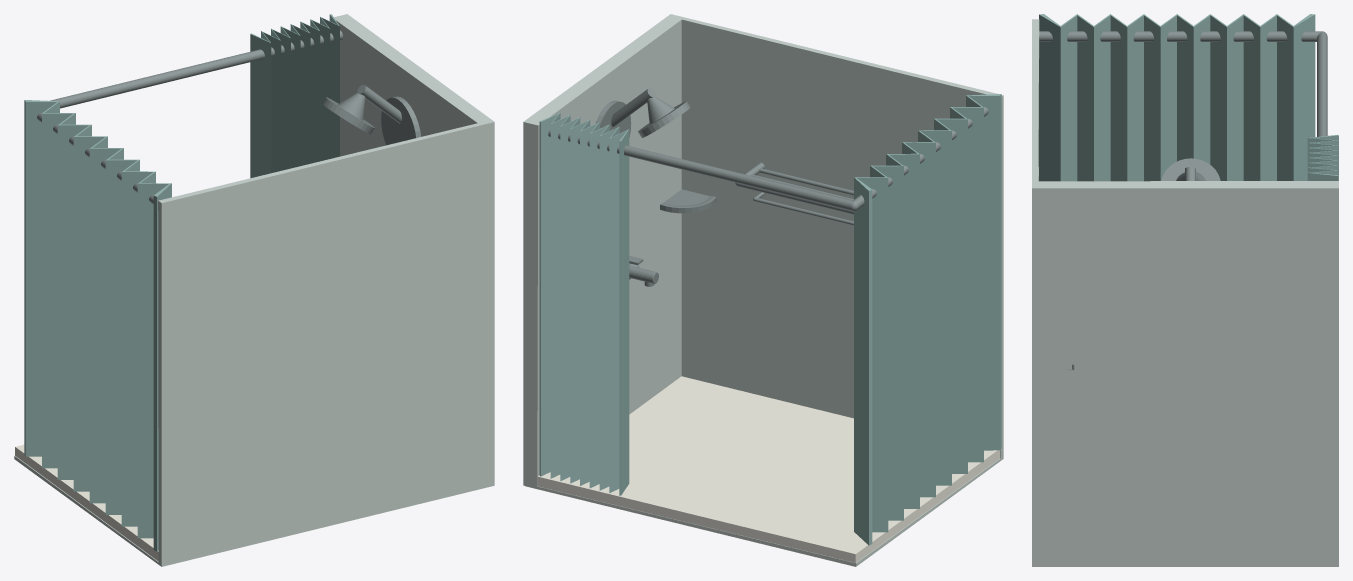
File: Shower.fbx
The picture shows the model from 3 angles, left to right: view 1: azimuth 30°, elevation 25°; view 2: azimuth 150°, elevation 25°; view 3: azimuth 270°, elevation 25°; orthographic projection. The views are drawn at different scales.
Visible parts, largest first — view 1: BathShell, ScreenPanelB, ScreenPanelA, ScreenRail, ShowerTray, ShowerPipe, ShowerHead; view 2: BathShell, ScreenPanelB, ShowerTray, ScreenPanelA, ScreenRail, GrabRail, ShowerHead, RailMount, ShowerPipe; view 3: BathShell, ScreenPanelB, ScreenRail, ScreenPanelA, ShowerHead.
Boxes of the visible parts, box(x1,y1,x2,y2) form: BathShell: box(14, 14, 494, 566); ScreenPanelB: box(24, 100, 171, 551); ScreenPanelA: box(250, 14, 339, 178); ScreenRail: box(37, 30, 342, 204); ShowerTray: box(15, 444, 158, 561); ShowerPipe: box(381, 96, 421, 145); ShowerHead: box(322, 92, 374, 134); BathShell: box(523, 14, 1003, 566); ScreenPanelB: box(854, 94, 1001, 545); ShowerTray: box(525, 376, 999, 566); ScreenPanelA: box(539, 112, 629, 495); ScreenRail: box(548, 107, 988, 211); GrabRail: box(735, 162, 853, 214); ShowerHead: box(638, 96, 690, 137); RailMount: box(660, 189, 716, 213); ShowerPipe: box(595, 100, 631, 137); BathShell: box(1032, 19, 1338, 566); ScreenPanelB: box(1039, 14, 1315, 181); ScreenRail: box(1039, 31, 1327, 136); ScreenPanelA: box(1307, 134, 1338, 180); ShowerHead: box(1161, 158, 1220, 180).
Bounding box in the file's own units: 160 × 167 × 121.
